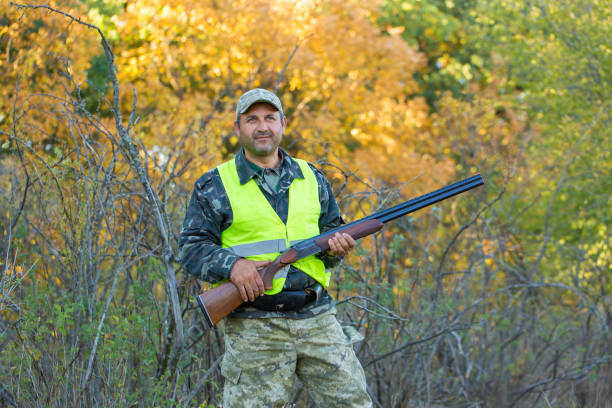gun: (196, 173, 486, 328)
